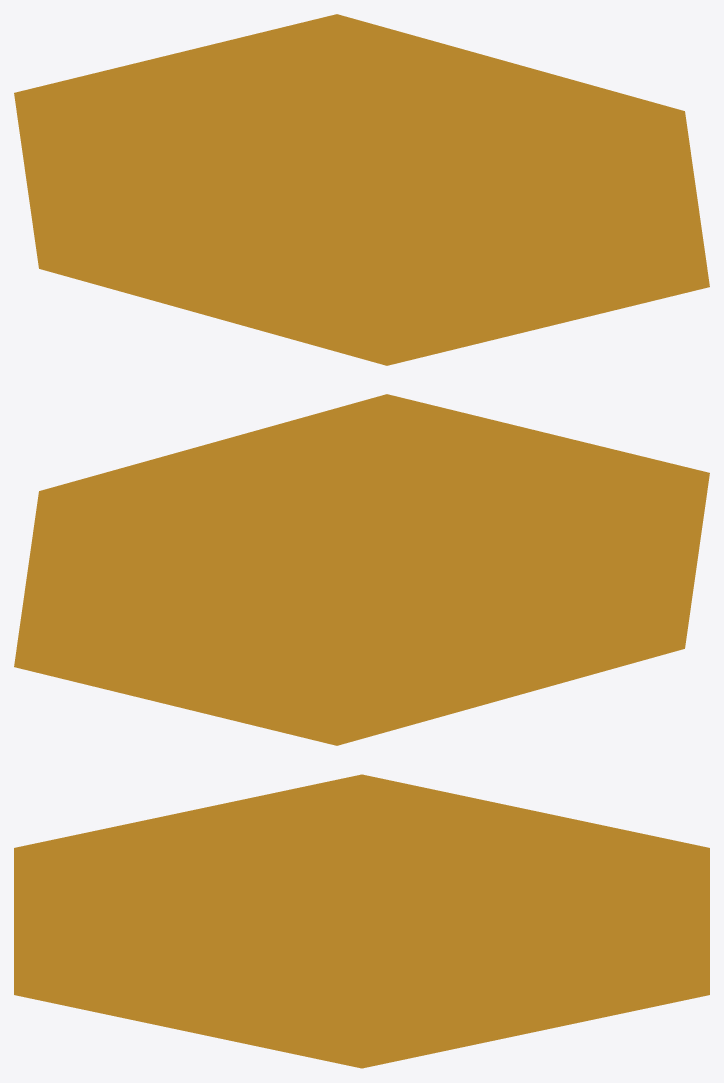
Rendered from hex 1.fbx.
3 views of the same model, one above another, from view 1: azimuth 30°, elevation 25°; view 2: azimuth 150°, elevation 25°; view 3: azimuth 270°, elevation 25° (orthographic). The views are drawn at different scales.
Visible parts, largest first — view 1: Disc; view 2: Disc; view 3: Disc.
Boxes of the visible parts, box(x1,y1,x2,y2) form: Disc: box(14, 14, 709, 365); Disc: box(14, 394, 709, 745); Disc: box(14, 774, 709, 1068).
Size of the model in its own units: 100 by 0 by 100.
